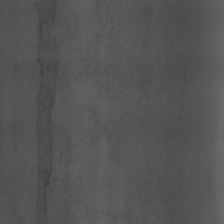water_spot: (32, 3, 65, 215)
